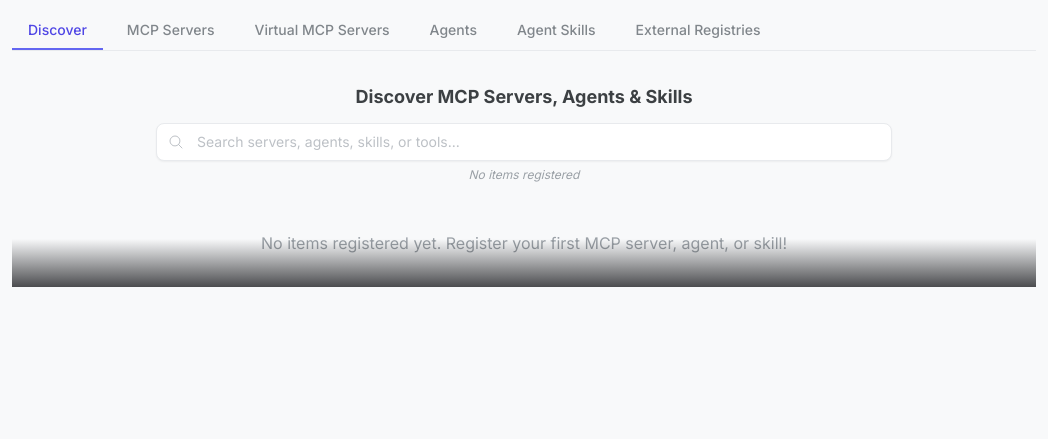
Scenario: Dashboard entity collections › shows a configured source before its first import
Click the button "External Registries": (698, 31) [620,12,777,50]
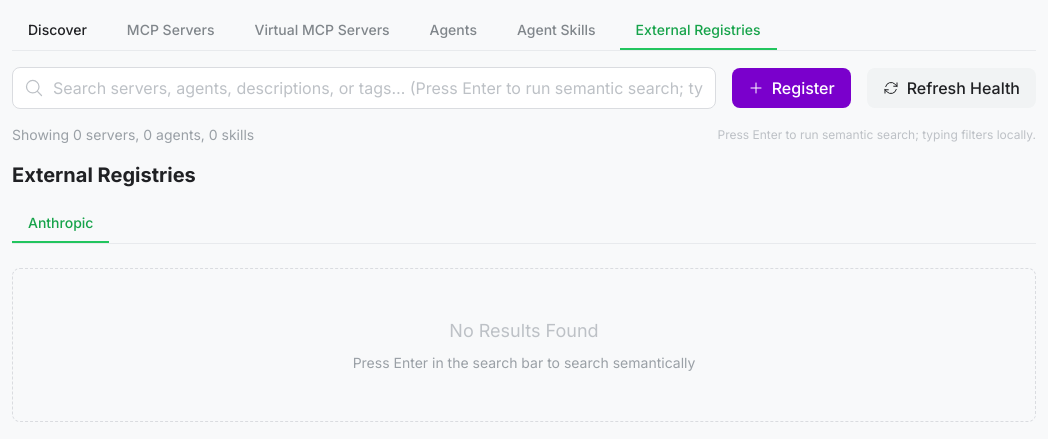
Expected: the button "Anthropic" is shown, [12,205,109,243]
Expected: the text "No Results Found" is shown, [449,320,599,341]
